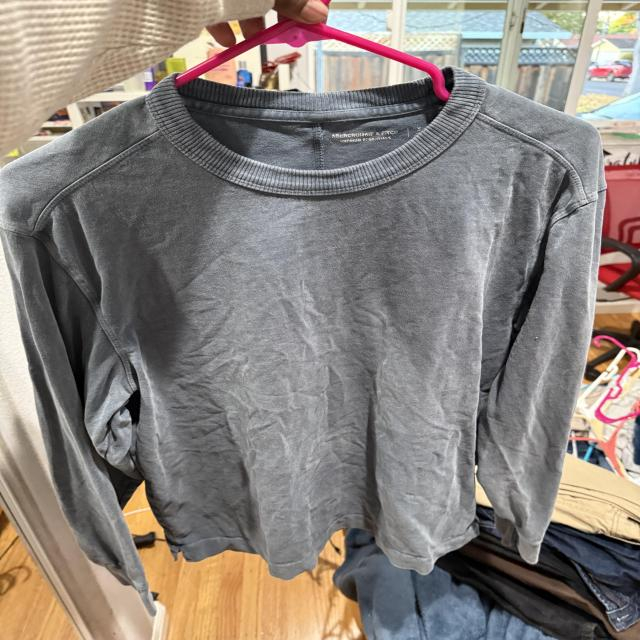back_tag: (324, 126, 444, 146)
